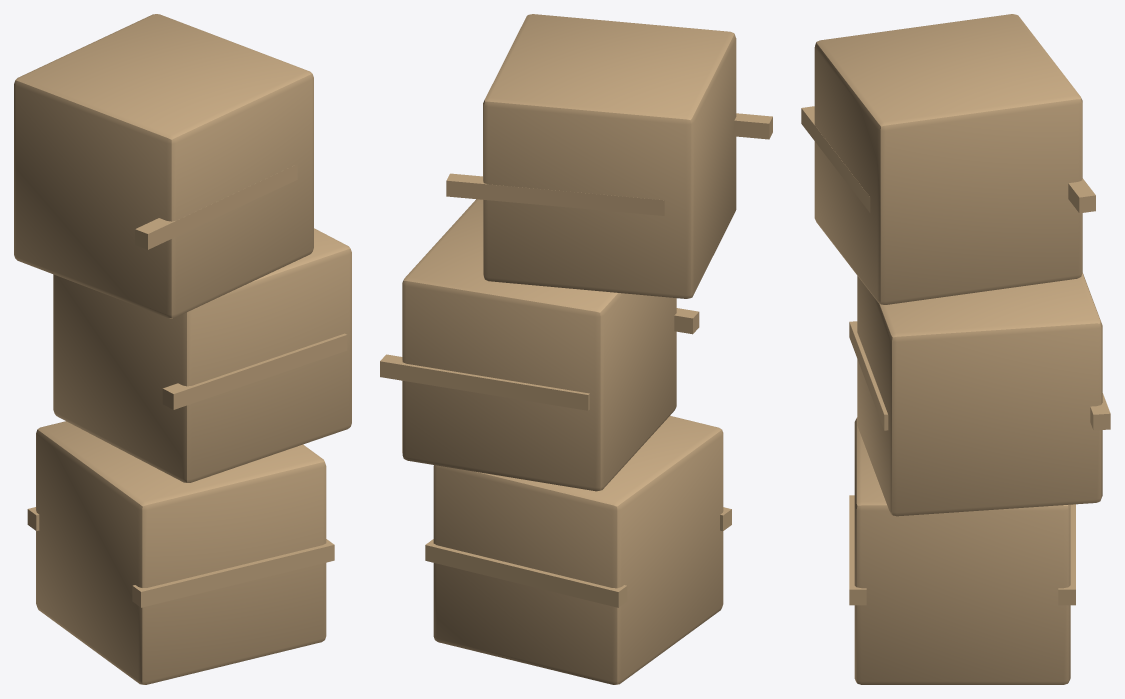
Rendered from gen-crate-stack-banded-1.glb.
The picture shows the model from 3 angles, left to right: view 1: azimuth 30°, elevation 25°; view 2: azimuth 150°, elevation 25°; view 3: azimuth 270°, elevation 25°; orthographic projection.
Parts seen in each view (by area): view 1: gen-crate-stack-banded-1_part1; view 2: gen-crate-stack-banded-1_part1; view 3: gen-crate-stack-banded-1_part1.
Boxes of the visible parts, x1=… form: gen-crate-stack-banded-1_part1: x1=14, y1=14, x2=351, y2=684; gen-crate-stack-banded-1_part1: x1=380, y1=14, x2=772, y2=684; gen-crate-stack-banded-1_part1: x1=801, y1=14, x2=1110, y2=684.
Size of the model in its own units: 916 by 1780 by 887.
